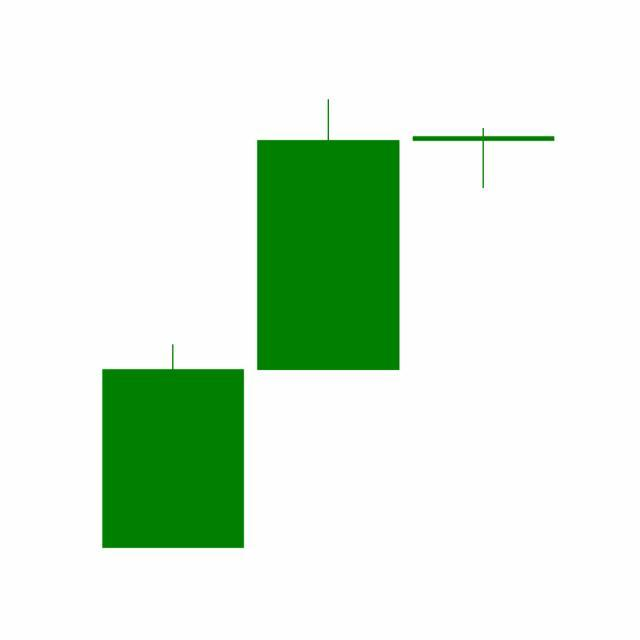Spinning Top: (406, 128, 562, 190)
